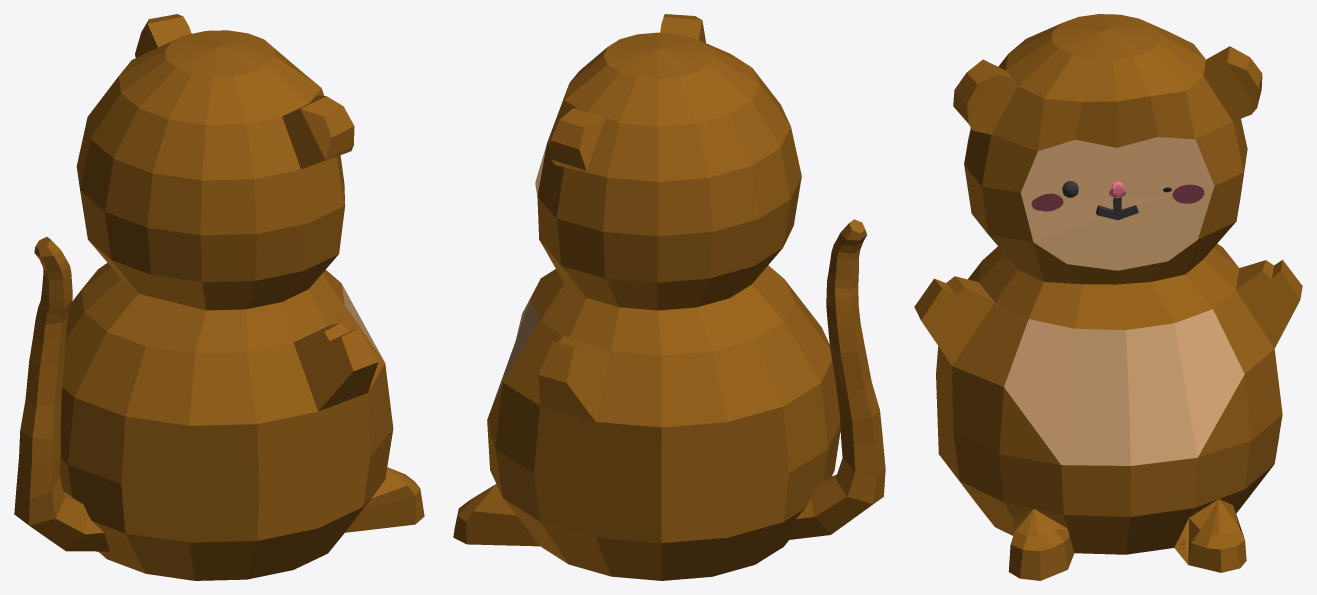
The model's file is monkeyStraightTail.fbx.
The picture shows the model from 3 angles, left to right: view 1: azimuth 30°, elevation 25°; view 2: azimuth 150°, elevation 25°; view 3: azimuth 270°, elevation 25°; orthographic projection.
Parts seen in each view (by area): view 1: Monkey; view 2: Monkey; view 3: Monkey.
Boxes of the visible parts, box(x1,y1,x2,y2) form: Monkey: box(14, 14, 424, 580); Monkey: box(453, 14, 885, 580); Monkey: box(914, 14, 1302, 580).
Bounding box in the file's own units: 301 × 365 × 272.
